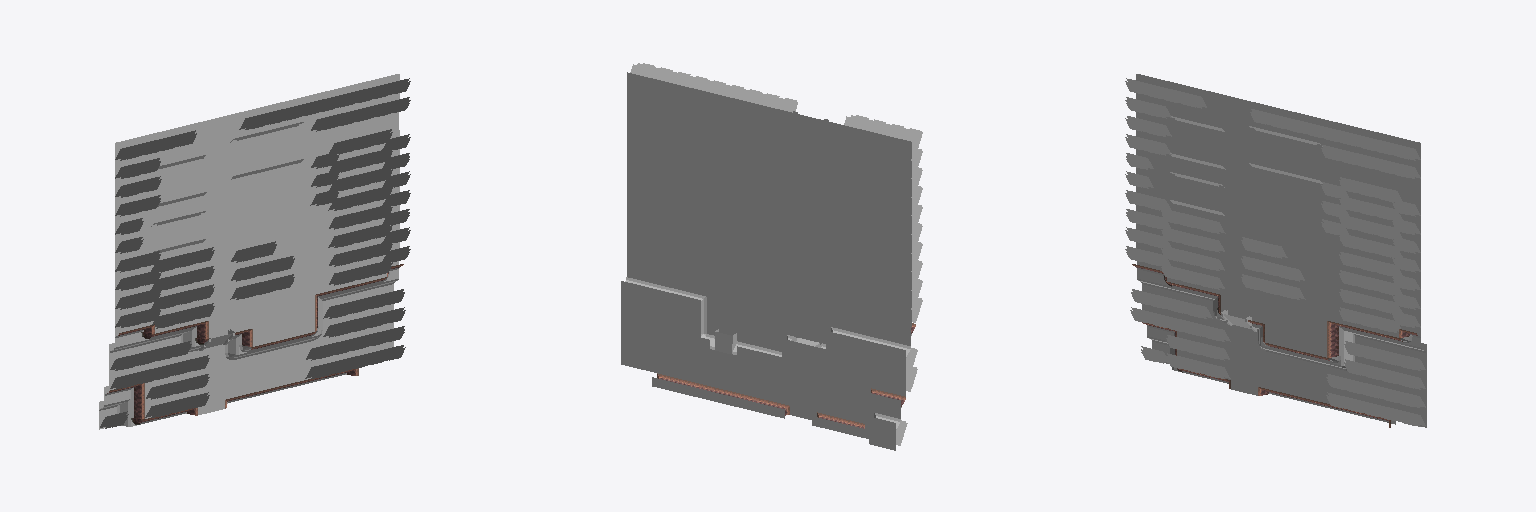
3 views of the same model, side by side, from view 1: azimuth 30°, elevation 25°; view 2: azimuth 150°, elevation 25°; view 3: azimuth 330°, elevation 25° (orthographic).
Visible parts, largest first — view 1: map; view 2: map; view 3: map.
Part boxes in pixels (left/top/right/bottom): map: left=99, top=74, right=410, bottom=429; map: left=621, top=63, right=922, bottom=450; map: left=1125, top=74, right=1426, bottom=427.
Bounding box in the file's own units: 32.5 × 32.12 × 5.64.
15 materials, 1 textured.